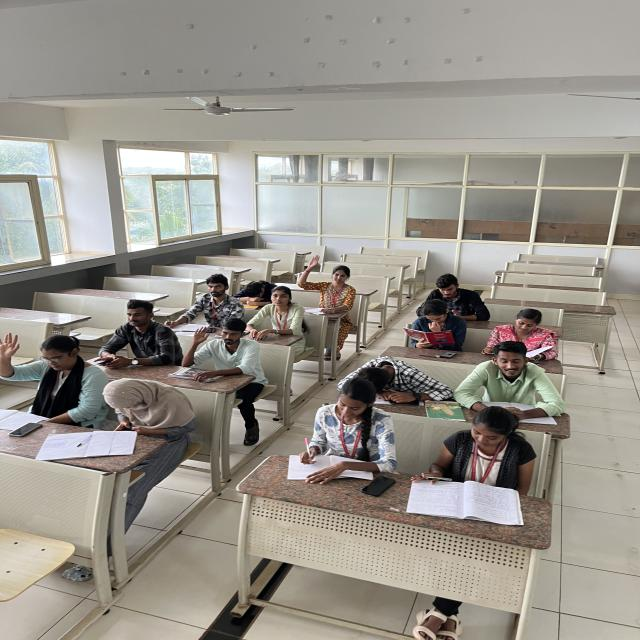Hand Rising: (1, 323, 101, 428), (180, 317, 261, 390), (296, 254, 360, 312)
Reading: (490, 305, 561, 356), (400, 299, 467, 349)
Sleeping: (336, 347, 450, 402), (237, 273, 275, 305)
Using Phone: (100, 372, 198, 453)
Writing: (406, 403, 541, 528), (272, 379, 402, 498)
